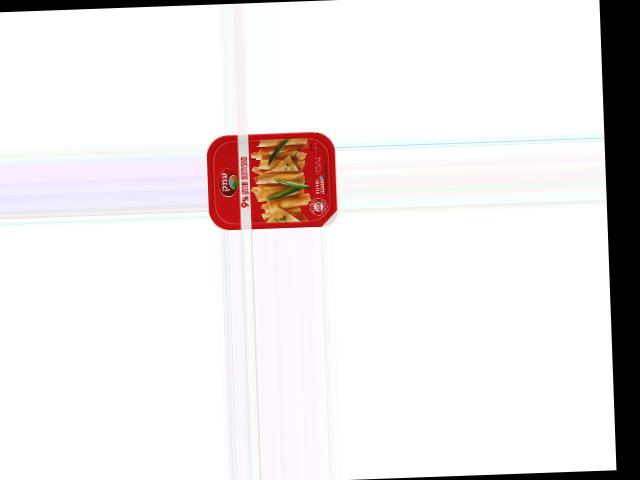cheese: (205, 130, 338, 230)
